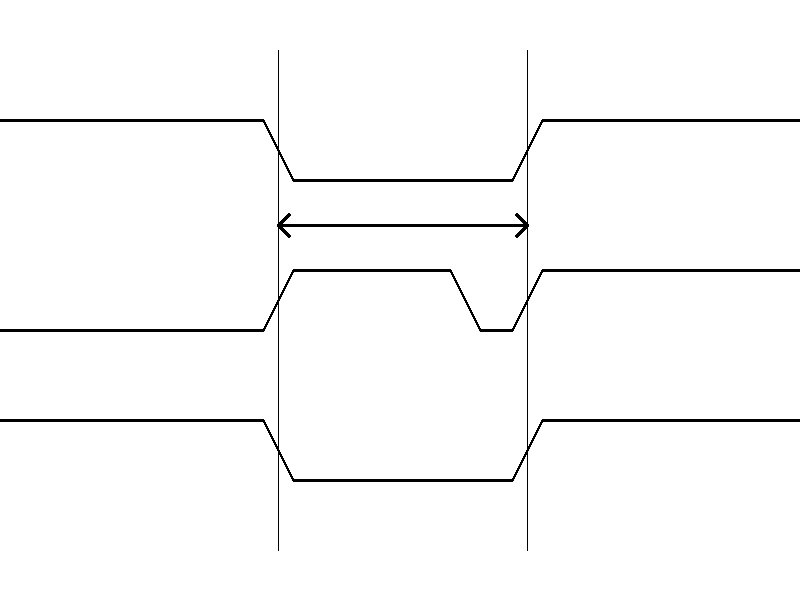double_arrow: (278, 210, 527, 240)
